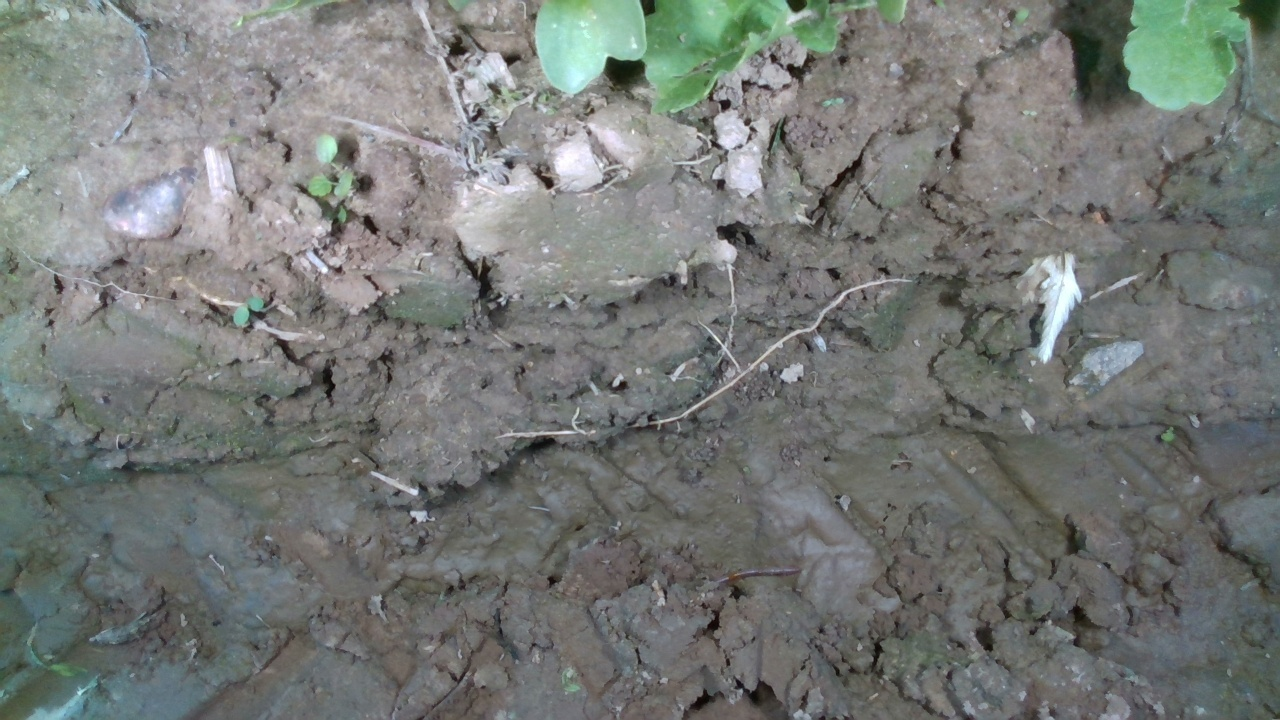weed: (230, 292, 266, 329)
